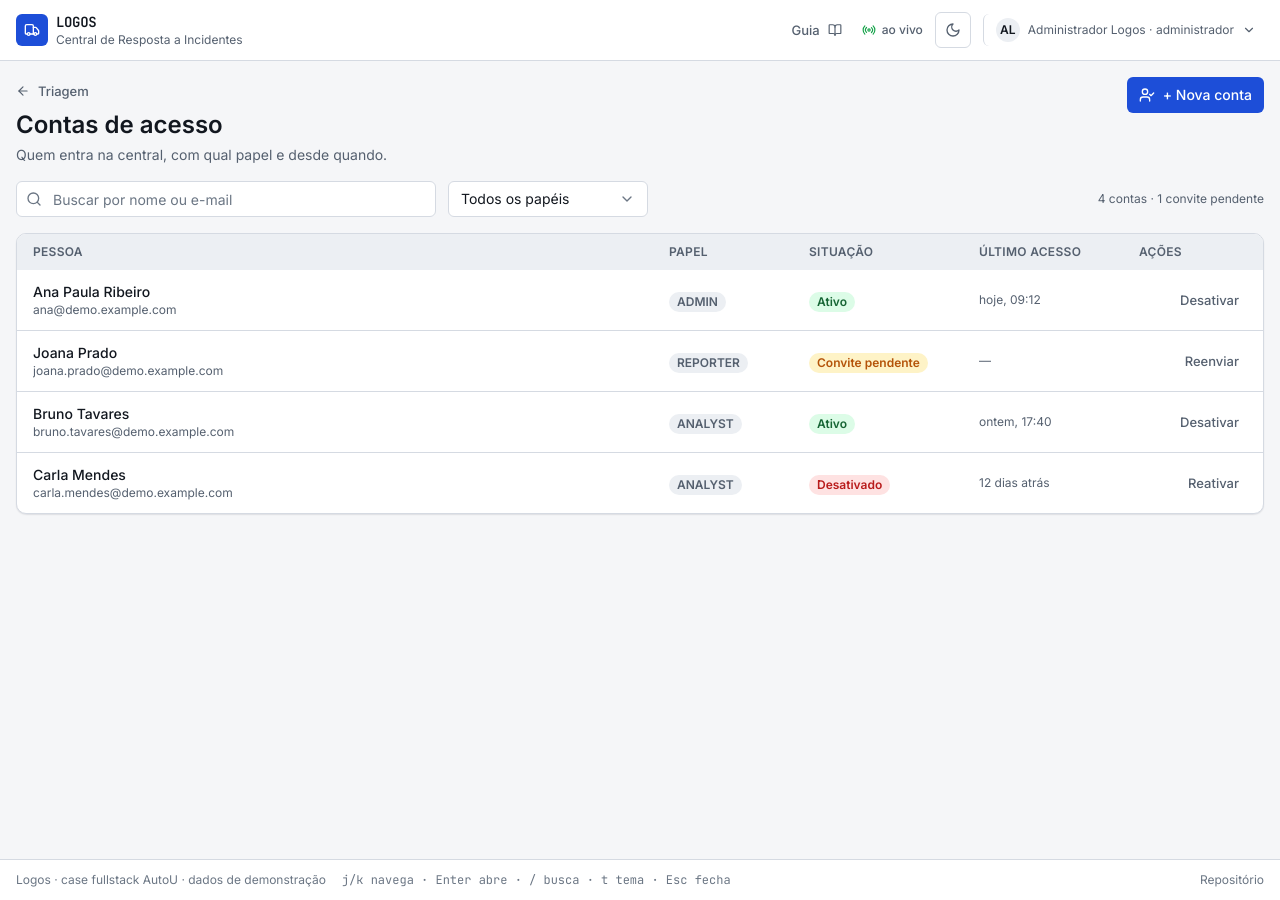
AccountsScreen — nova conta › envia e-mail e papel para POST /users e mostra o alerta verde
Click the button "+ Nova conta" at (1195, 95), box [1127, 77, 1264, 113]
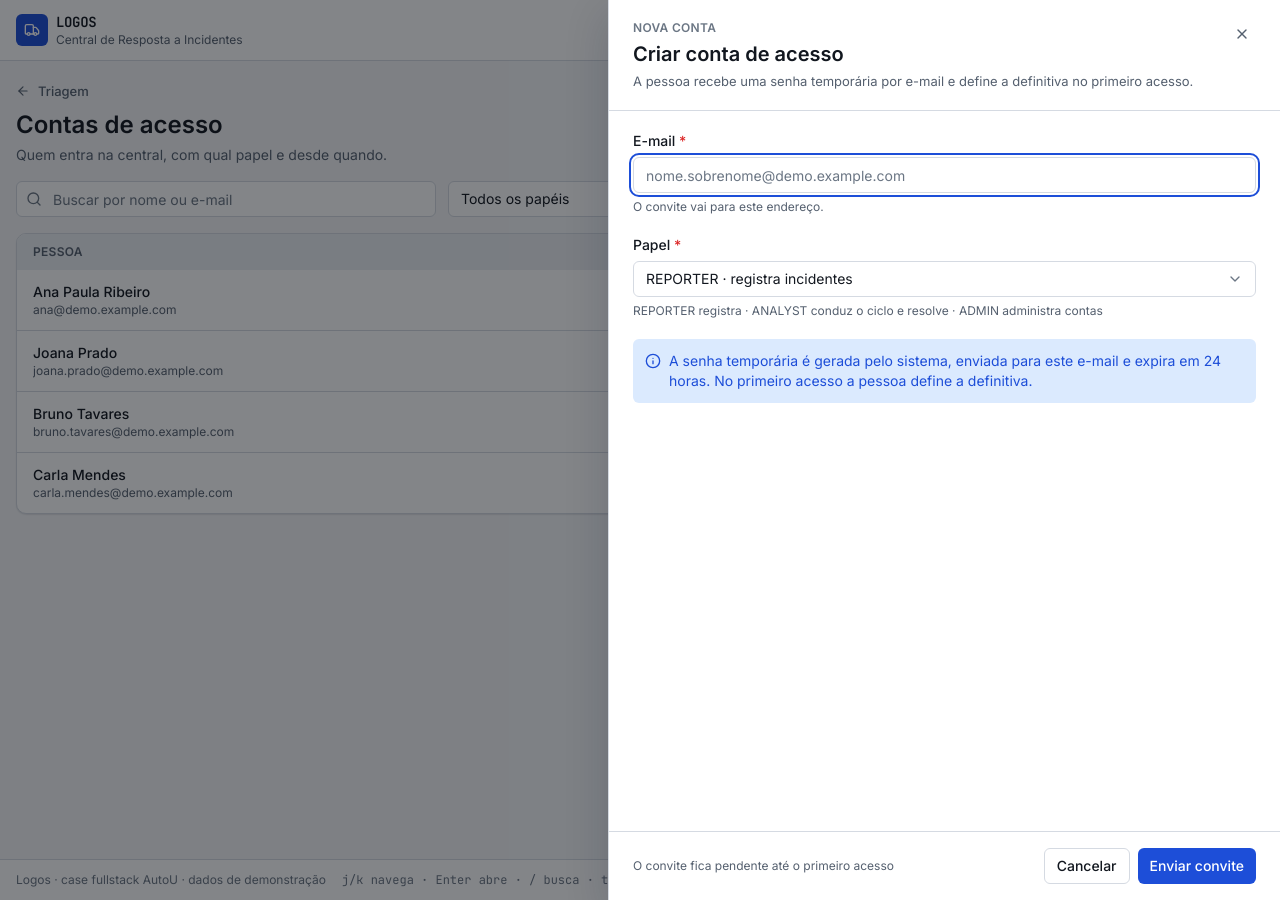
Type "novo.analista@parceiro.com.br" into the field labelled "E-mail *" at (944, 175), box [633, 157, 1256, 193]
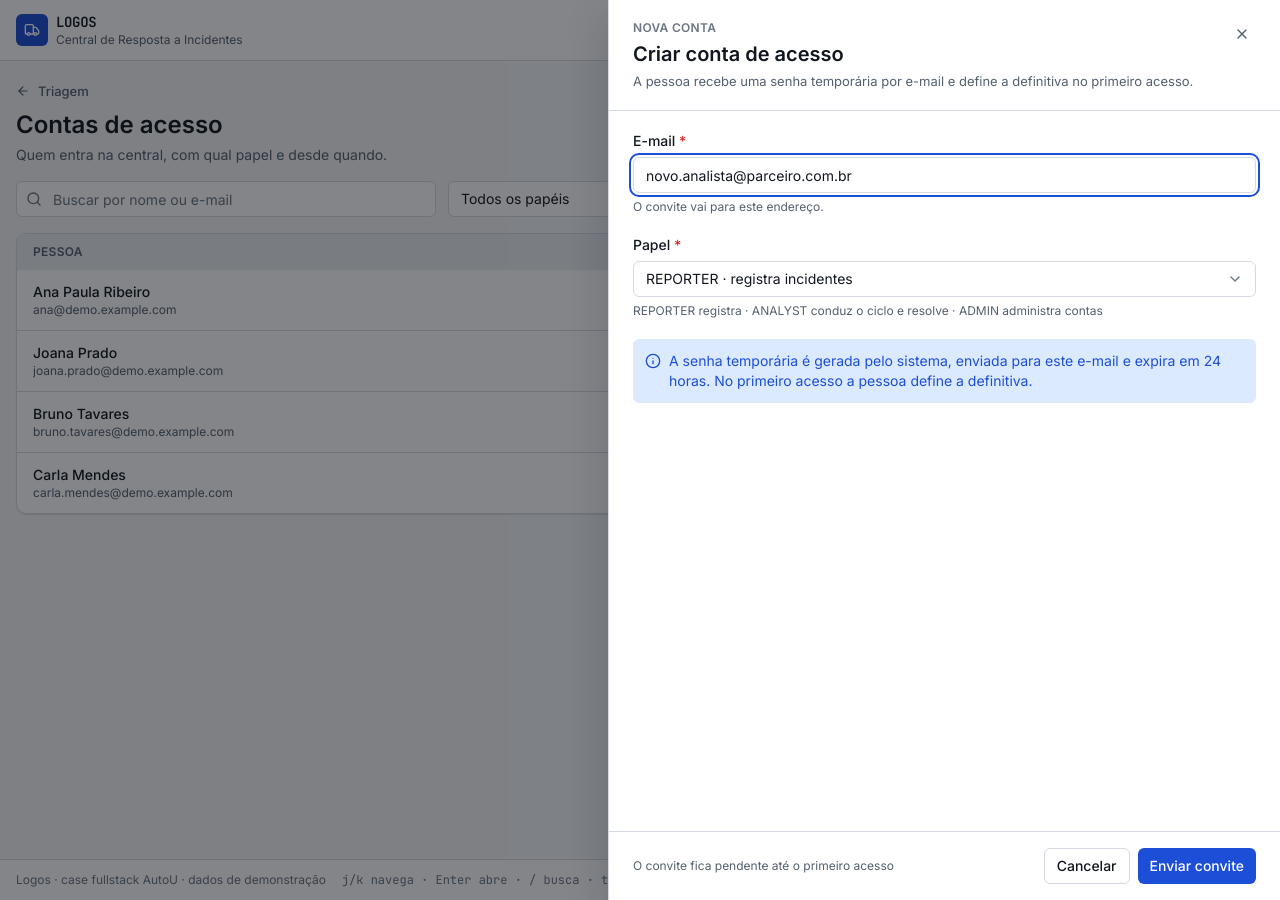
Click the dropdown named "papel" at (749, 278), box [633, 261, 1256, 297]
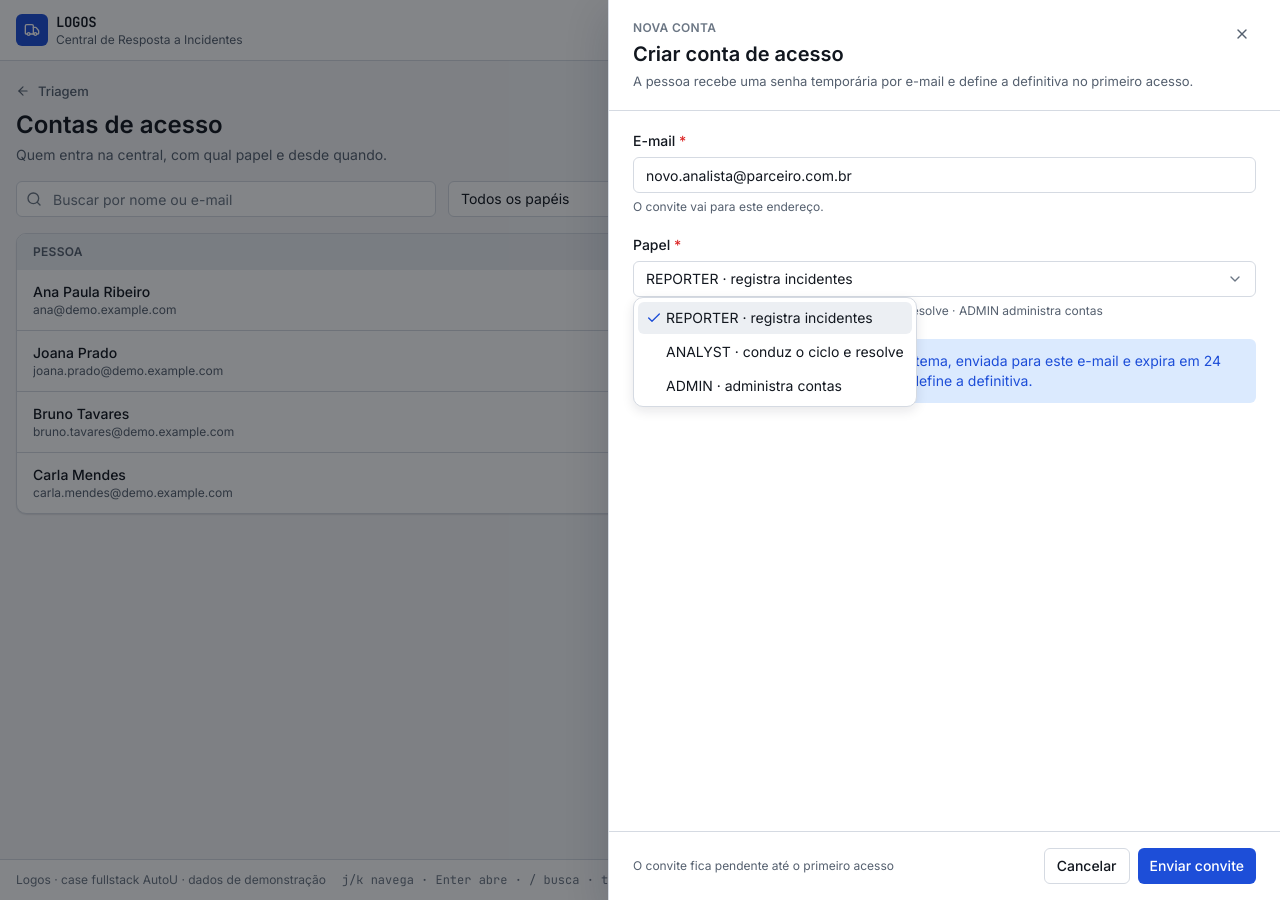
Click the option "ANALYST · conduz o ciclo e resolve" at (785, 352), box [666, 343, 904, 360]
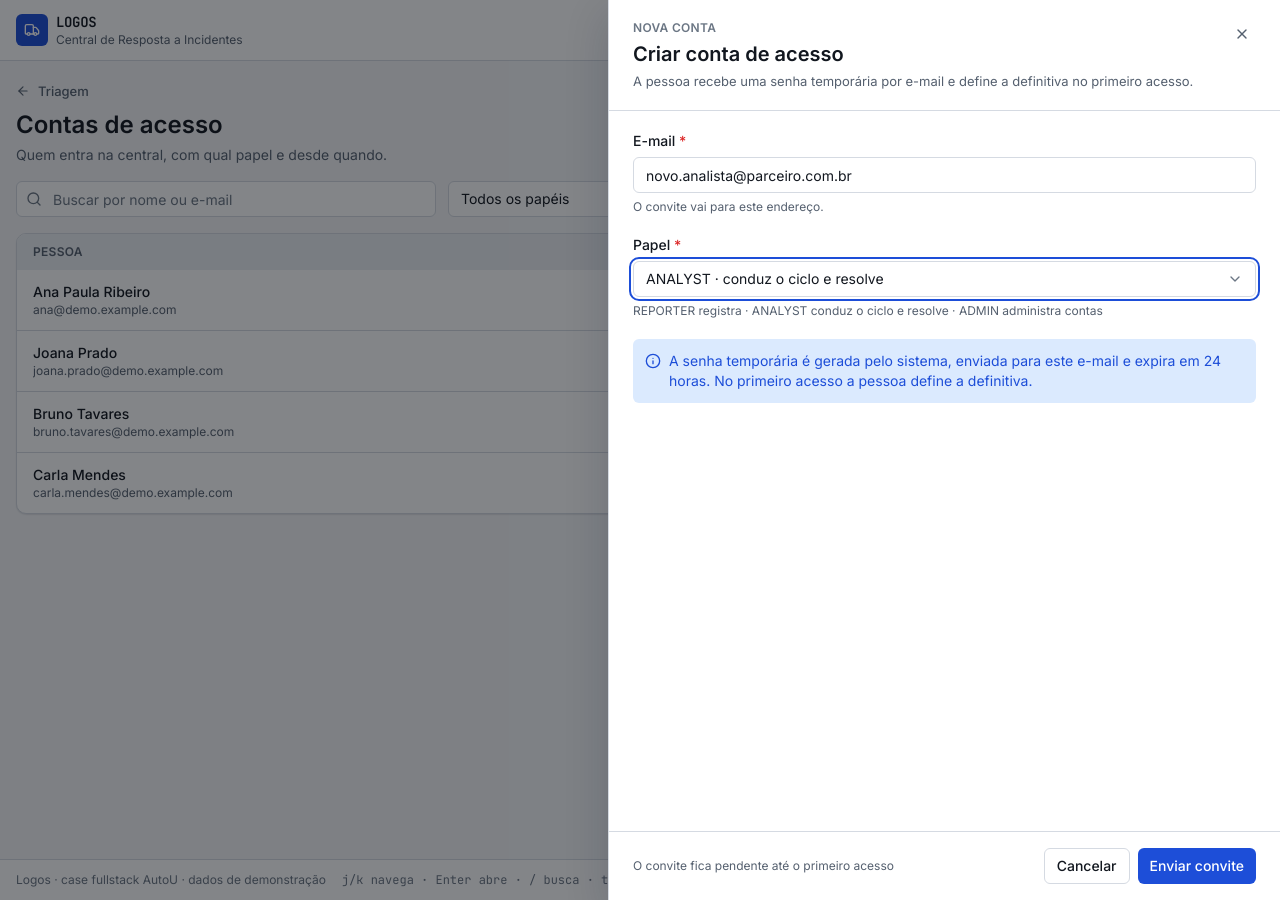
Click the button "Enviar convite" at (1197, 866), box [1138, 848, 1256, 884]
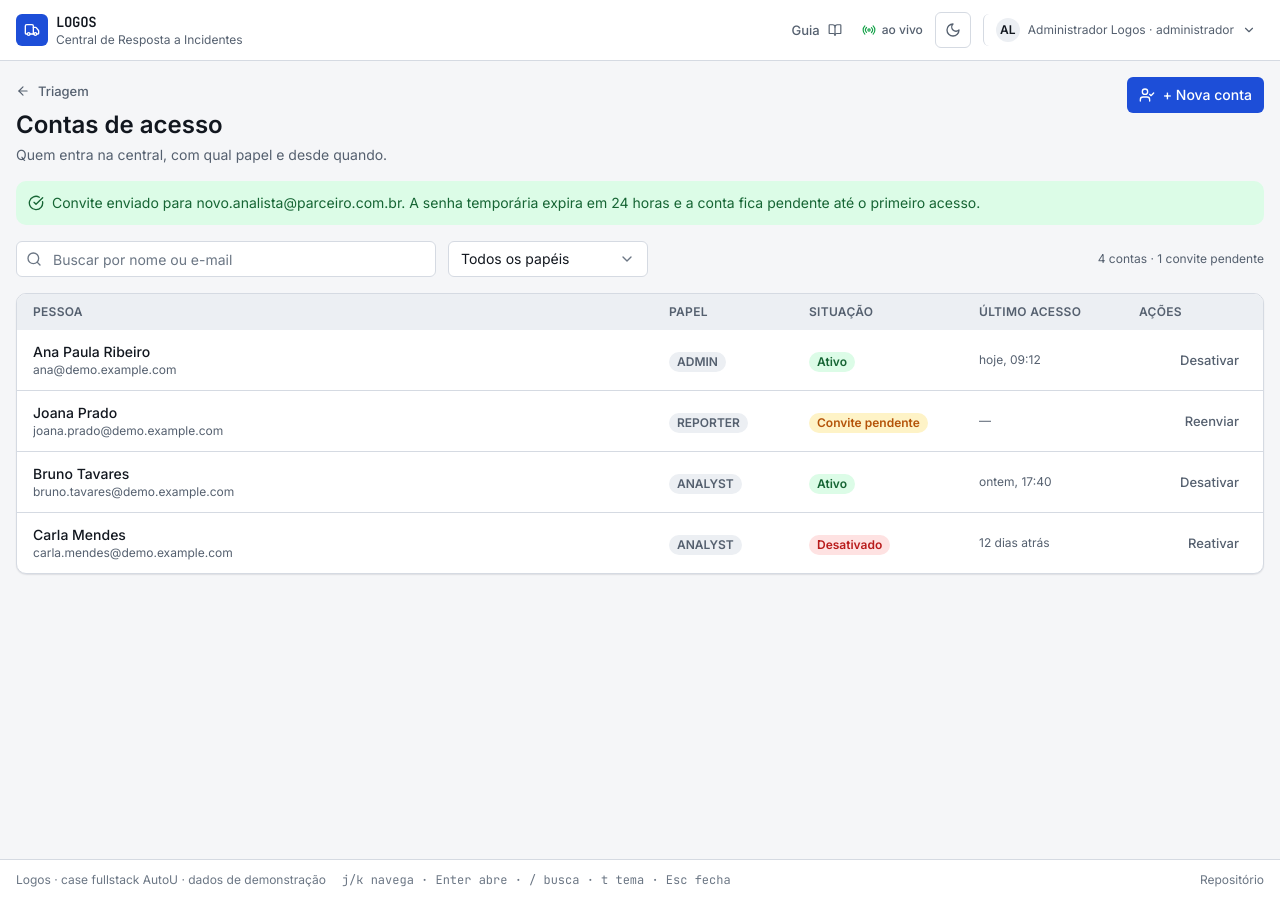
Check: the message with test id "invite-sent-alert" shows "expira em 24 horas", box [401, 194, 980, 211]
Check: the message with test id "invite-sent-alert" shows "pendente até o primeiro acesso", box [401, 194, 980, 211]
